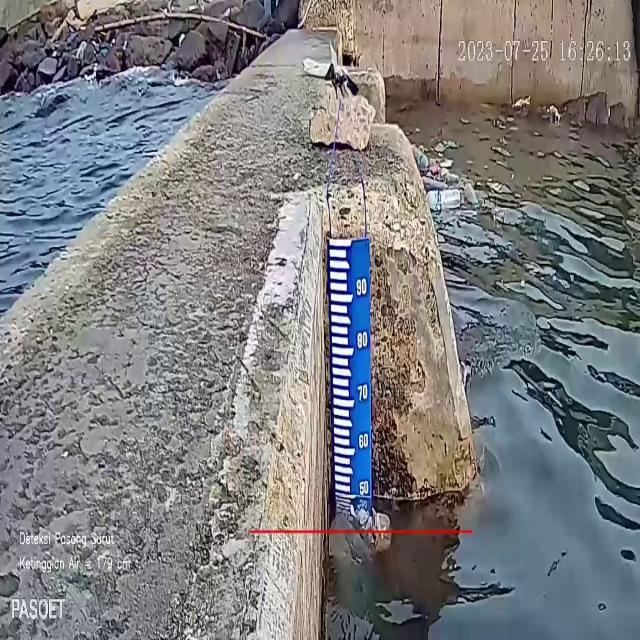50: (359, 479, 369, 495)
60: (358, 431, 369, 450)
70: (358, 383, 368, 403)
80: (356, 330, 368, 350)
90: (356, 277, 367, 297)
staff: (329, 237, 370, 501)
